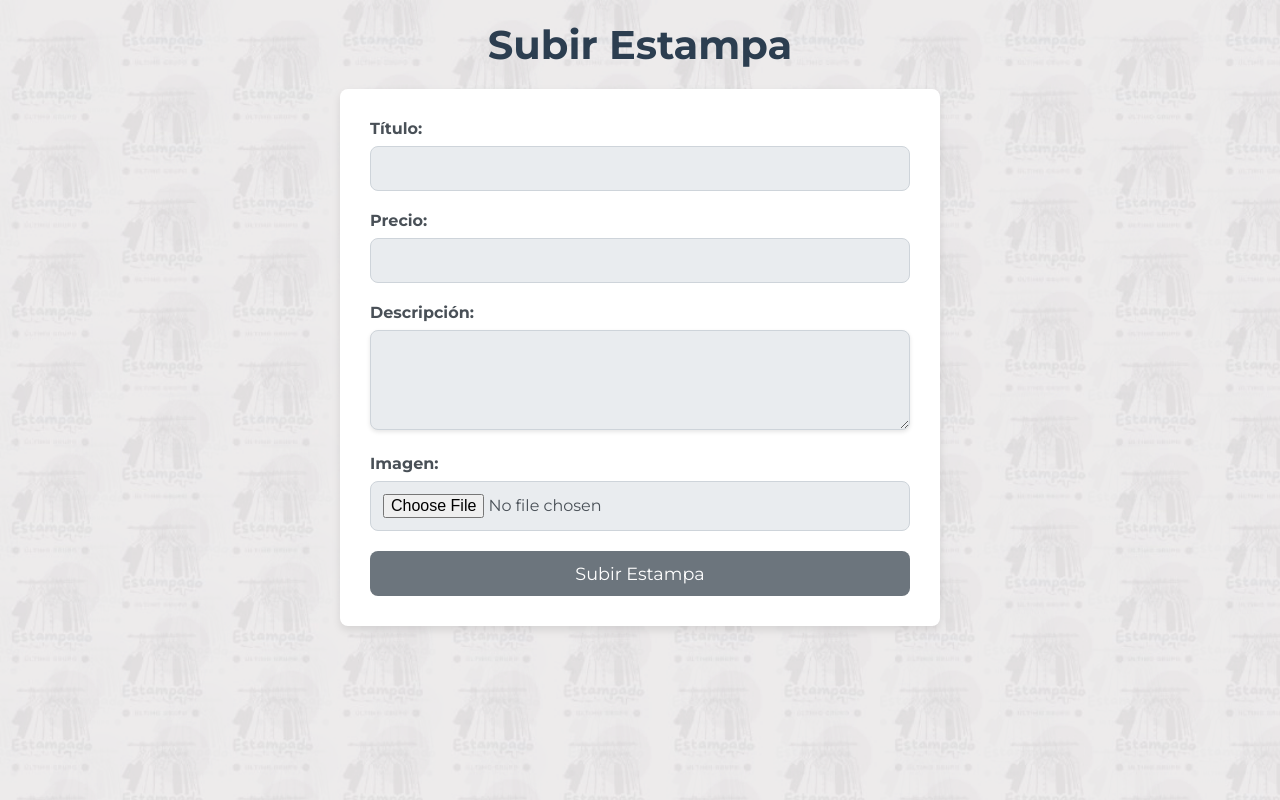
SubirEstampa › Revisa que el precio se muestre con comas
This screenshot has width=1280, height=800.
Type "1234567" into the field labelled "Precio:" at [640, 260], box [370,238,910,283]
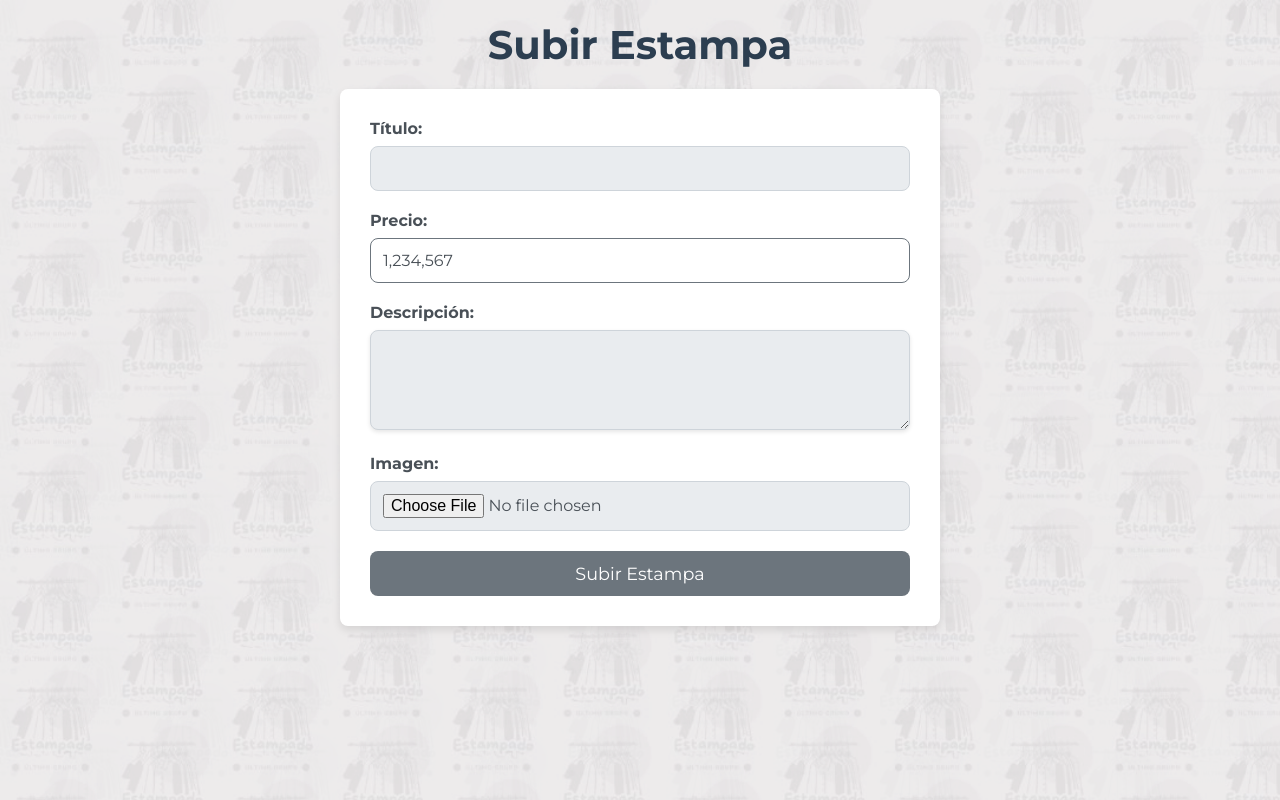
Result: the field labelled "Precio:" holds "1,234,567" at [370,238,910,283]
